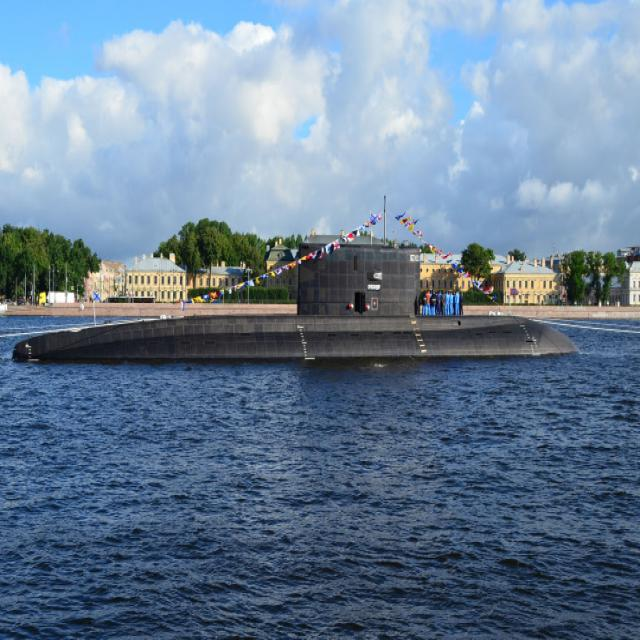submarine: (11, 237, 580, 368)
